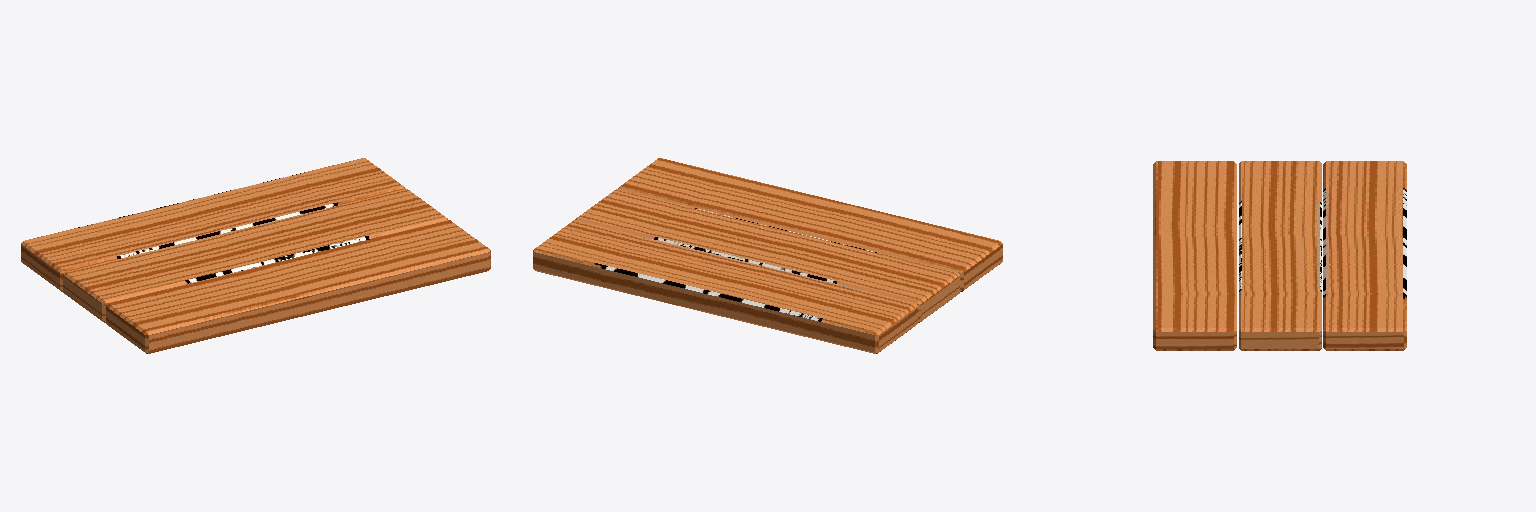
3 views of the same model, side by side, from view 1: azimuth 30°, elevation 25°; view 2: azimuth 150°, elevation 25°; view 3: azimuth 270°, elevation 25° (orthographic).
Visible parts, largest first — view 1: 立方体; view 2: 立方体; view 3: 立方体.
Part boxes in pixels (x1,y1,x2,y2): 立方体: (21, 158, 490, 353); 立方体: (533, 158, 1002, 353); 立方体: (1153, 161, 1406, 350).
Size of the model in its own units: 2.87 by 0.1786 by 1.82.
1 materials, 1 textured.